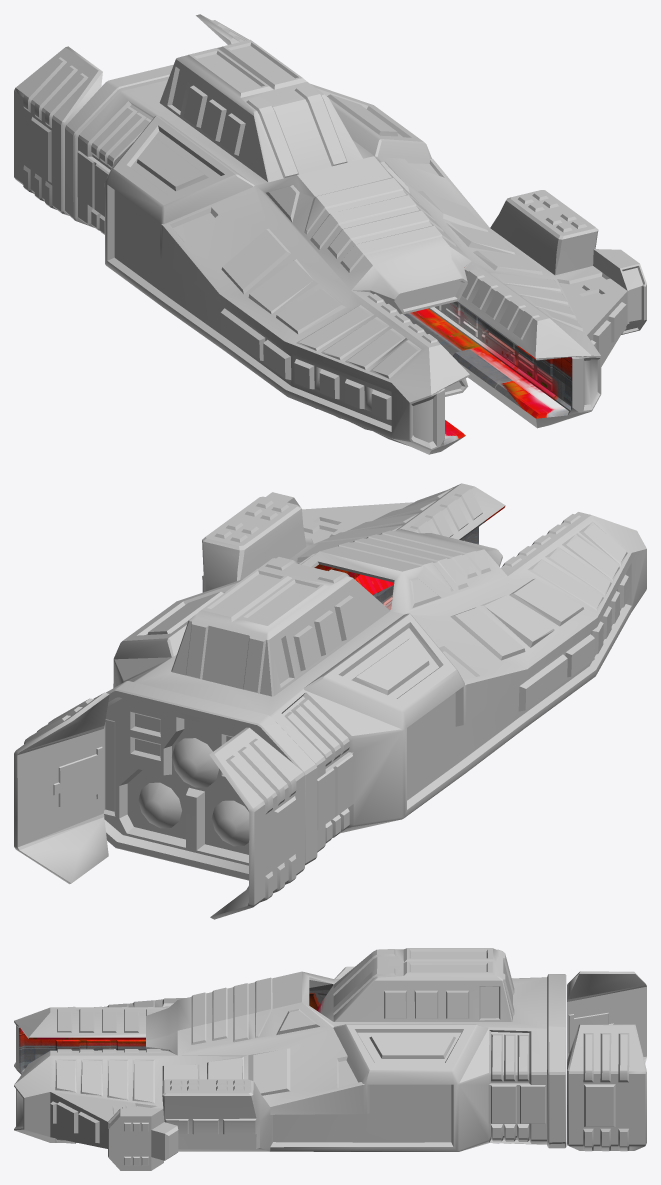
The model's file is bst_carrier2.obj.
3 renders of one model, top to bottom at view 1: azimuth 30°, elevation 25°; view 2: azimuth 150°, elevation 25°; view 3: azimuth 270°, elevation 25°, orthographic. The views are drawn at different scales.
Parts seen in each view (by area): view 1: Tai_Carrier1, Tai_Carrier2, Tai_CarrierBadge, Tai_CarrierThruster; view 2: Tai_Carrier1, Tai_CarrierThruster, Tai_CarrierBadge, Tai_Carrier2; view 3: Tai_Carrier1, Tai_CarrierThruster, Tai_Carrier2, Tai_CarrierBadge.
Part boxes in pixels (left/top/right/bottom): Tai_Carrier1: left=14, top=14, right=646, bottom=454; Tai_Carrier2: left=400, top=301, right=572, bottom=445; Tai_CarrierBadge: left=316, top=178, right=431, bottom=244; Tai_CarrierThruster: left=63, top=16, right=234, bottom=214; Tai_Carrier1: left=17, top=483, right=646, bottom=906; Tai_CarrierThruster: left=14, top=691, right=292, bottom=919; Tai_CarrierBadge: left=339, top=534, right=464, bottom=564; Tai_Carrier2: left=314, top=506, right=505, bottom=609; Tai_Carrier1: left=14, top=948, right=645, bottom=1170; Tai_CarrierThruster: left=567, top=972, right=646, bottom=1145; Tai_Carrier2: left=19, top=980, right=333, bottom=1073; Tai_CarrierBadge: left=206, top=977, right=270, bottom=1023.
Bounding box in the file's own units: 296 × 180 × 587.
